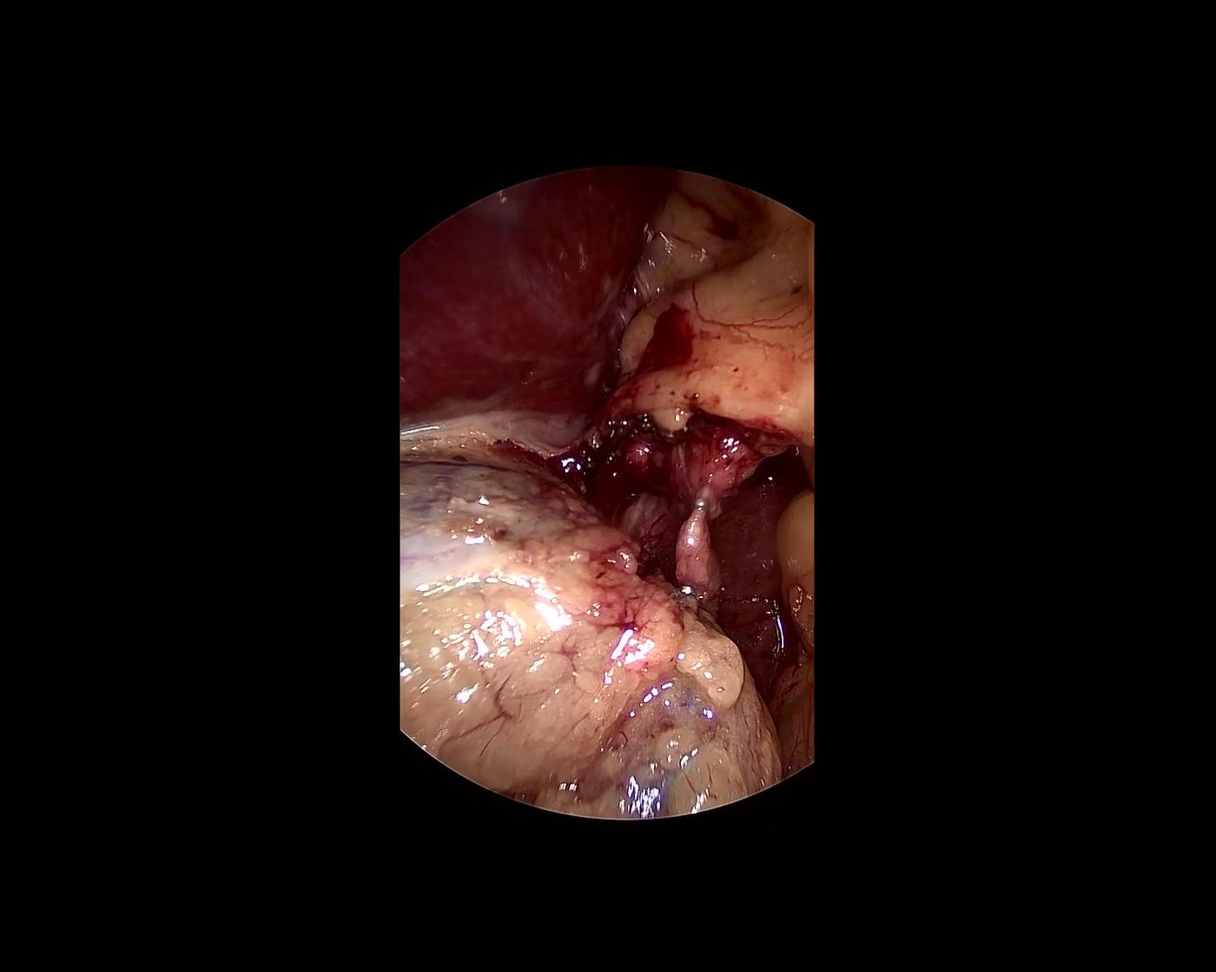Gallbladder: (380, 447, 799, 828)
Liver: (378, 164, 690, 432), (712, 480, 785, 678)
